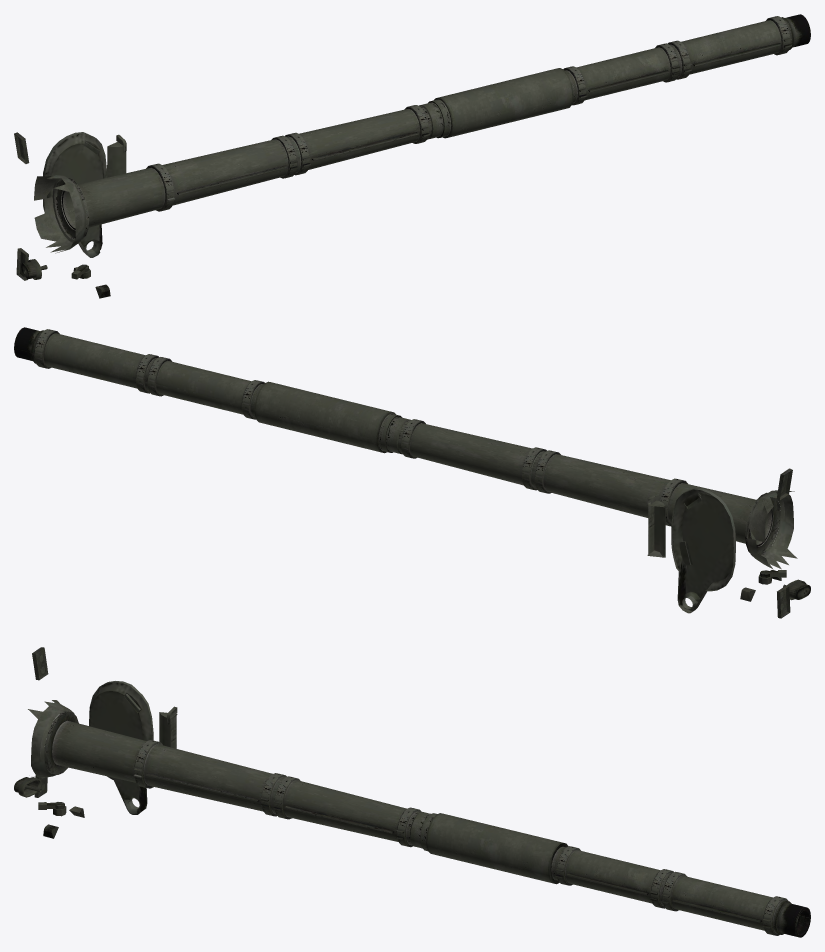
File: gun.gltf
The picture shows the model from 3 angles, top to bottom: view 1: azimuth 30°, elevation 25°; view 2: azimuth 150°, elevation 25°; view 3: azimuth 330°, elevation 25°; orthographic projection.
Visible parts, largest first — view 1: gun; view 2: gun; view 3: gun.
Part boxes in pixels (x1,y1,x2,y2): gun: (14, 14, 810, 298); gun: (14, 327, 810, 618); gun: (14, 647, 810, 937).
Bounding box in the file's own units: 4.59 × 0.8446 × 0.5865.
Materials: 3 (3 with a texture image).
